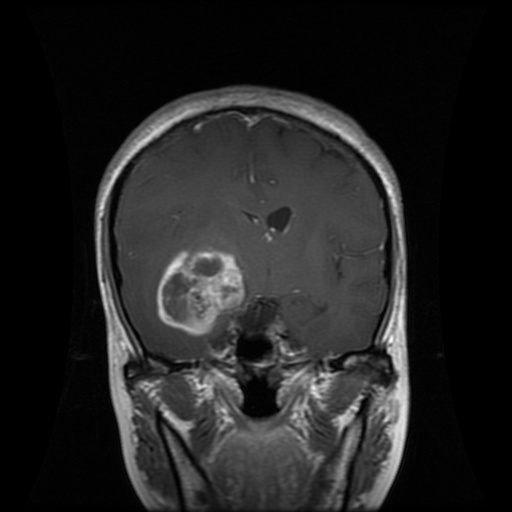glioma: (156, 240, 249, 339)
